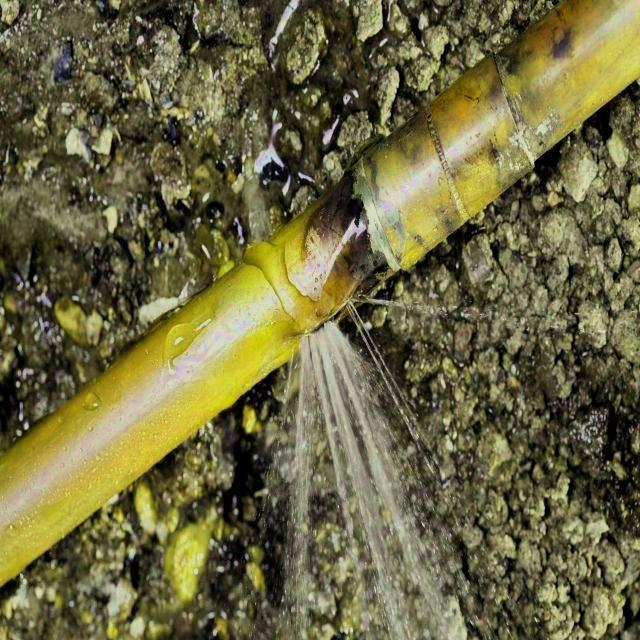pipe burst: (284, 299, 472, 640)
